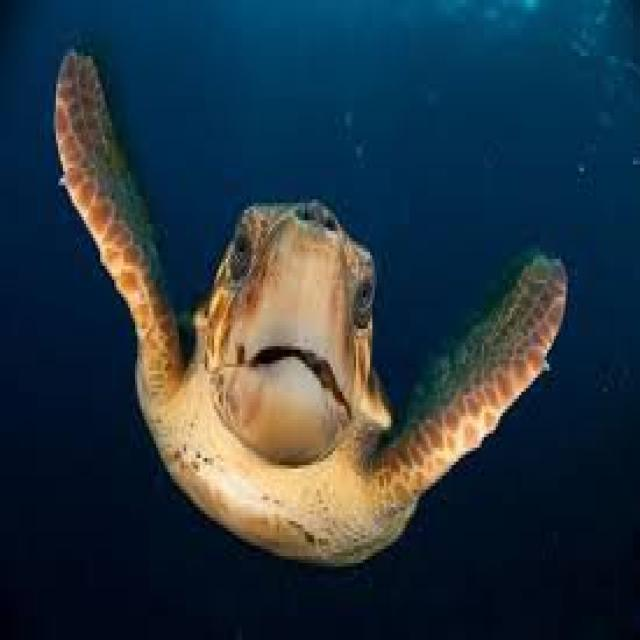turtle: (197, 177, 388, 522)
